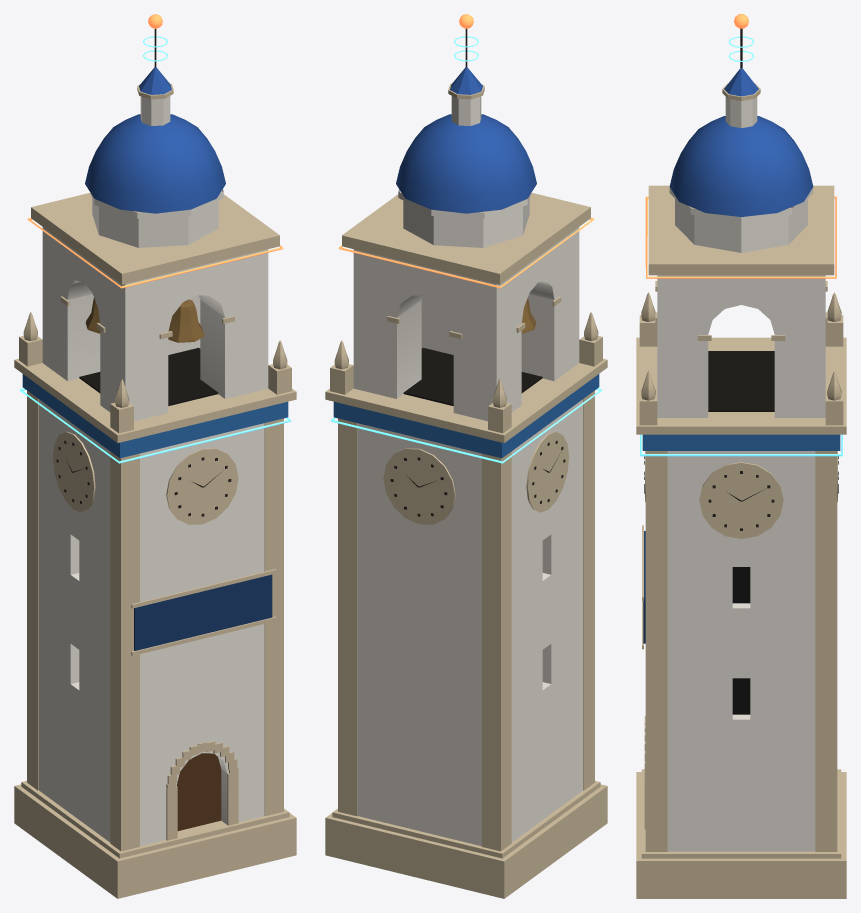
The picture shows the model from 3 angles, left to right: view 1: azimuth 30°, elevation 25°; view 2: azimuth 150°, elevation 25°; view 3: azimuth 270°, elevation 25°; orthographic projection.
Visible parts, largest first — view 1: tower.lod1; view 2: tower.lod1; view 3: tower.lod1.
Part boxes in pixels (bbox=[...]): tower.lod1: bbox=[14, 14, 296, 898]; tower.lod1: bbox=[325, 14, 607, 898]; tower.lod1: bbox=[636, 14, 846, 898].
Bounding box in the file's own units: 6 × 26.42 × 6.
